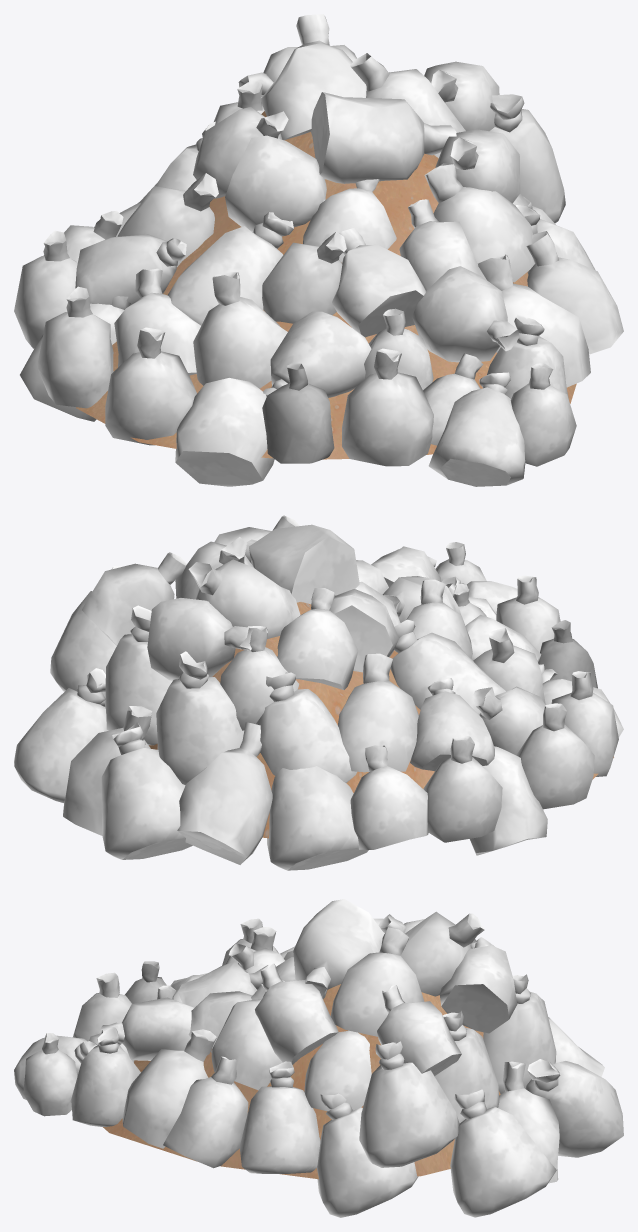
File: Prfb_GargabePile_Temp__2.fbx
3 views of the same model, one above another, from view 1: azimuth 30°, elevation 25°; view 2: azimuth 150°, elevation 25°; view 3: azimuth 270°, elevation 25° (orthographic). The views are drawn at different scales.
Parts seen in each view (by area): view 1: Mat_Bags_01_4, Mat_Bags_01_1, Mat_Bags_01_5, Mat_Tile_DryMud_01, Mat_Bags_01_3; view 2: Mat_Bags_01_4, Mat_Bags_01_1, Mat_Bags_01_5, Mat_Tile_DryMud_01, Mat_Bags_01_3; view 3: Mat_Bags_01_4, Mat_Bags_01_1, Mat_Bags_01_5, Mat_Tile_DryMud_01, Mat_Bags_01_3.
Part boxes in pixels (left/top/right/bottom): Mat_Bags_01_4: left=14, top=14, right=623, bottom=466; Mat_Bags_01_1: left=75, top=45, right=555, bottom=486; Mat_Bags_01_5: left=20, top=107, right=590, bottom=486; Mat_Tile_DryMud_01: left=76, top=111, right=576, bottom=459; Mat_Bags_01_3: left=262, top=363, right=334, bottom=463; Mat_Bags_01_4: left=50, top=524, right=618, bottom=849; Mat_Bags_01_1: left=14, top=515, right=557, bottom=870; Mat_Bags_01_5: left=63, top=581, right=623, bottom=864; Mat_Tile_DryMud_01: left=149, top=602, right=613, bottom=838; Mat_Bags_01_3: left=538, top=620, right=597, bottom=688; Mat_Bags_01_4: left=23, top=899, right=556, bottom=1173; Mat_Bags_01_1: left=14, top=918, right=623, bottom=1217; Mat_Bags_01_5: left=89, top=914, right=604, bottom=1183; Mat_Tile_DryMud_01: left=103, top=984, right=500, bottom=1179; Mat_Bags_01_3: left=125, top=961, right=166, bottom=1003.
Size of the model in its own units: 5.5 by 2.83 by 6.41.
Materials: 5 (5 with a texture image).
